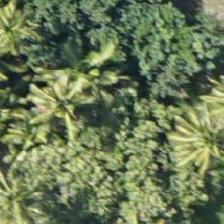coconut_tree: (30, 53, 120, 143), (159, 103, 223, 193)
